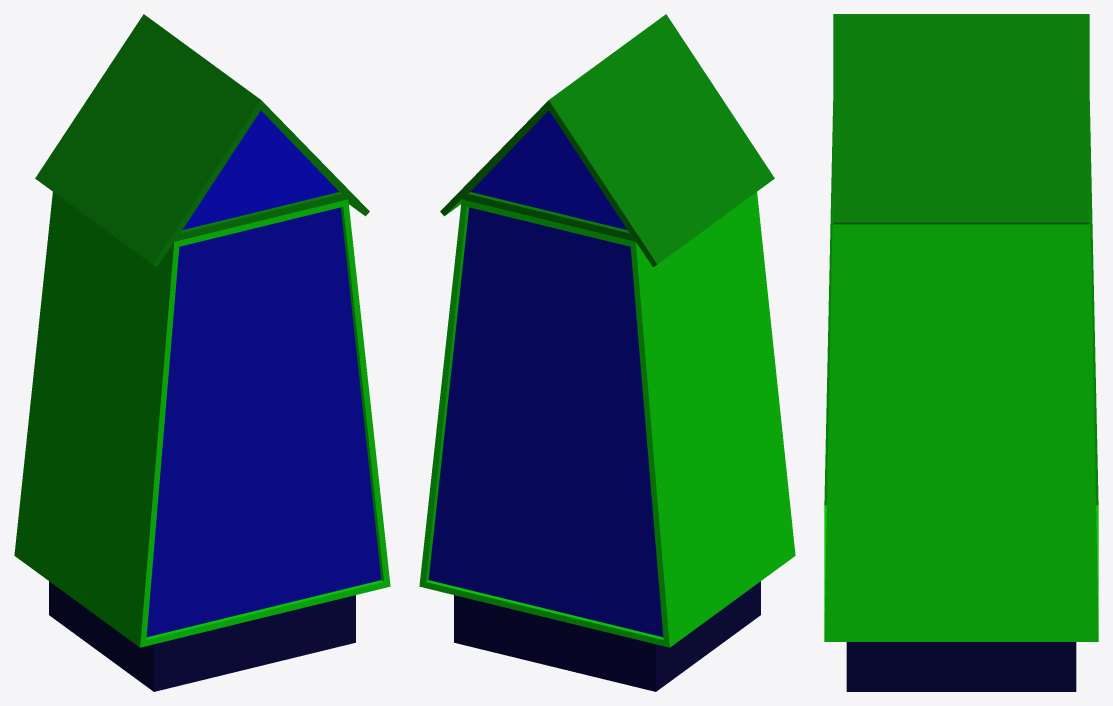
The model's file is FBX_Windmill_01.fbx.
The picture shows the model from 3 angles, left to right: view 1: azimuth 30°, elevation 25°; view 2: azimuth 150°, elevation 25°; view 3: azimuth 270°, elevation 25°; orthographic projection. The views are drawn at different scales.
Parts seen in each view (by area): view 1: Windmill_01; view 2: Windmill_01; view 3: Windmill_01.
Part boxes in pixels (left/top/right/bottom): Windmill_01: left=14, top=14, right=390, bottom=691; Windmill_01: left=419, top=14, right=795, bottom=691; Windmill_01: left=824, top=14, right=1098, bottom=691.
Size of the model in its own units: 138 by 301 by 120.
